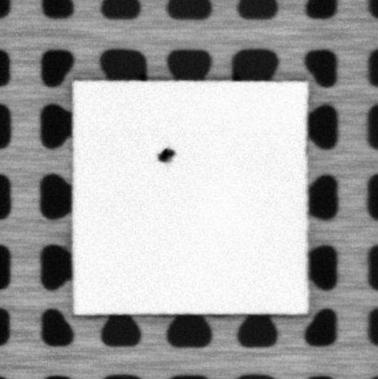DIE_INK: (157, 146, 178, 164)
